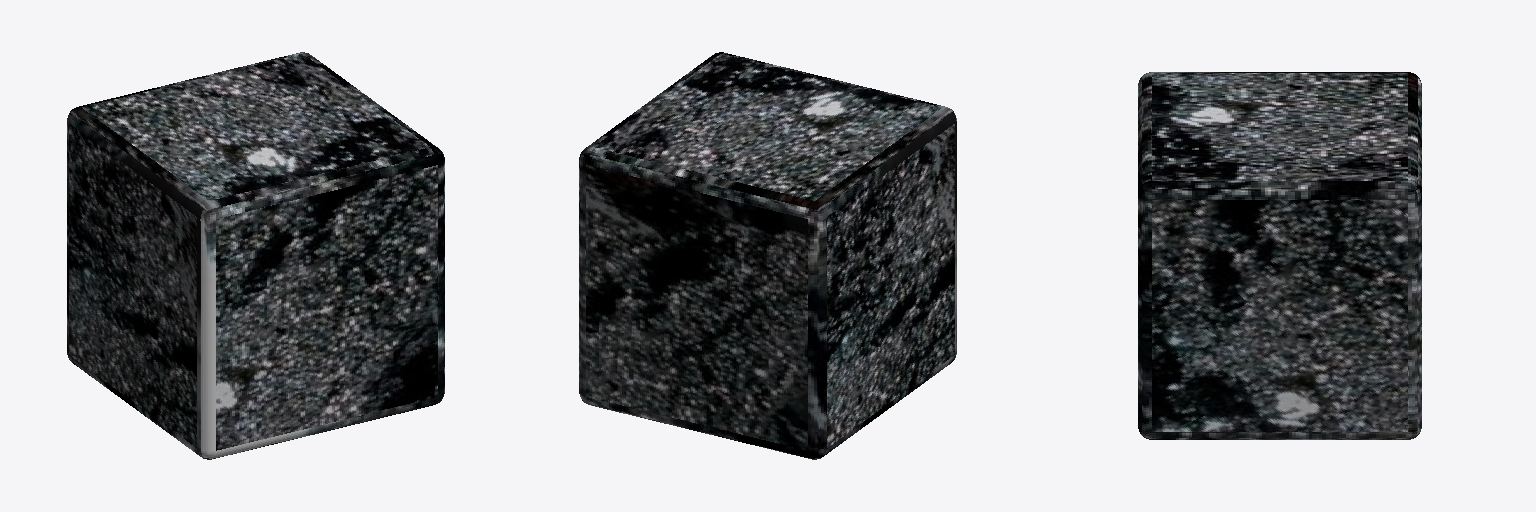
The picture shows the model from 3 angles: view 1: azimuth 30°, elevation 25°; view 2: azimuth 150°, elevation 25°; view 3: azimuth 270°, elevation 25°; orthographic projection.
Parts seen in each view (by area): view 1: Cube; view 2: Cube; view 3: Cube.
Part boxes in pixels (left/top/right/bottom): Cube: left=67, top=52, right=444, bottom=459; Cube: left=579, top=52, right=956, bottom=459; Cube: left=1138, top=72, right=1421, bottom=439.
Size of the model in its own units: 2 by 2 by 2.
1 materials, 1 textured.